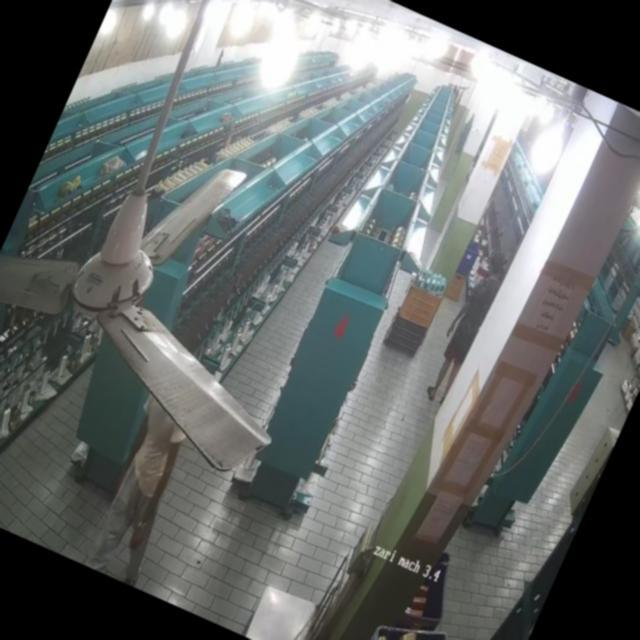person: (78, 397, 208, 586), (420, 253, 510, 409)
